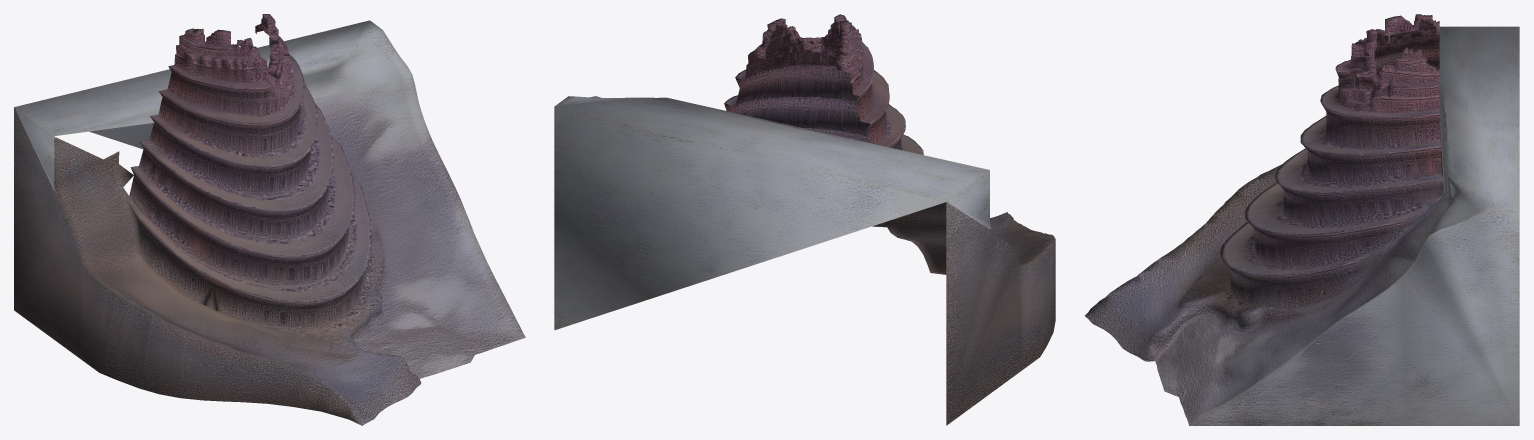
Rendered from selected.fbx.
3 renders of one model, left to right at view 1: azimuth 30°, elevation 25°; view 2: azimuth 150°, elevation 25°; view 3: azimuth 270°, elevation 25°, orthographic. The views are drawn at different scales.
Parts seen in each view (by area): view 1: tripo_node_200e28ef-bd80-4967-8a25-68a5bd0744dd; view 2: tripo_node_200e28ef-bd80-4967-8a25-68a5bd0744dd; view 3: tripo_node_200e28ef-bd80-4967-8a25-68a5bd0744dd.
Part boxes in pixels (x1,y1,x2,y2): tripo_node_200e28ef-bd80-4967-8a25-68a5bd0744dd: (14, 14, 525, 425); tripo_node_200e28ef-bd80-4967-8a25-68a5bd0744dd: (554, 14, 1055, 425); tripo_node_200e28ef-bd80-4967-8a25-68a5bd0744dd: (1085, 14, 1519, 425).
Bounding box in the file's own units: 99.8 × 76.37 × 99.8.
1 material, 1 textured.
